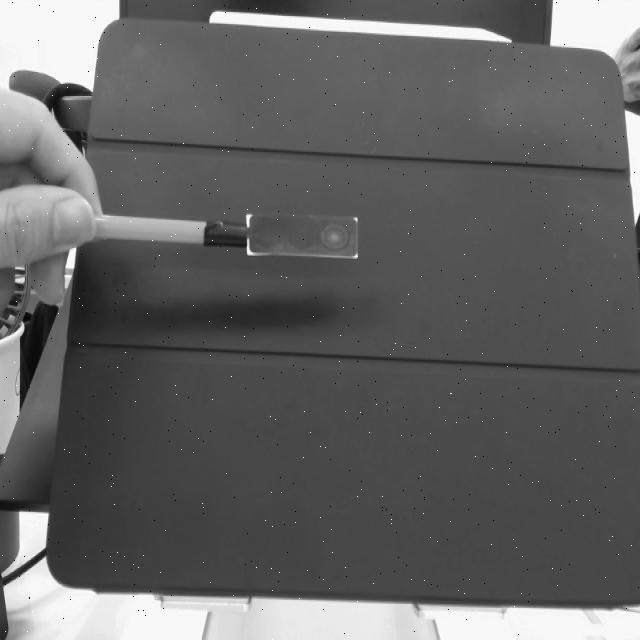traffic light: (245, 216, 361, 264)
